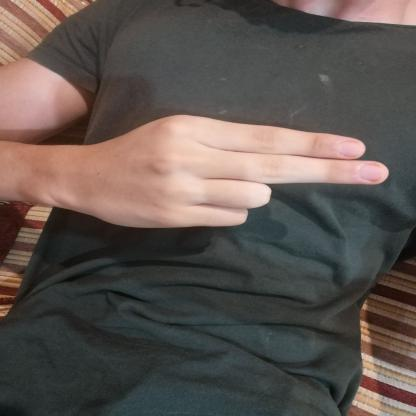AYN: (63, 104, 401, 241)
